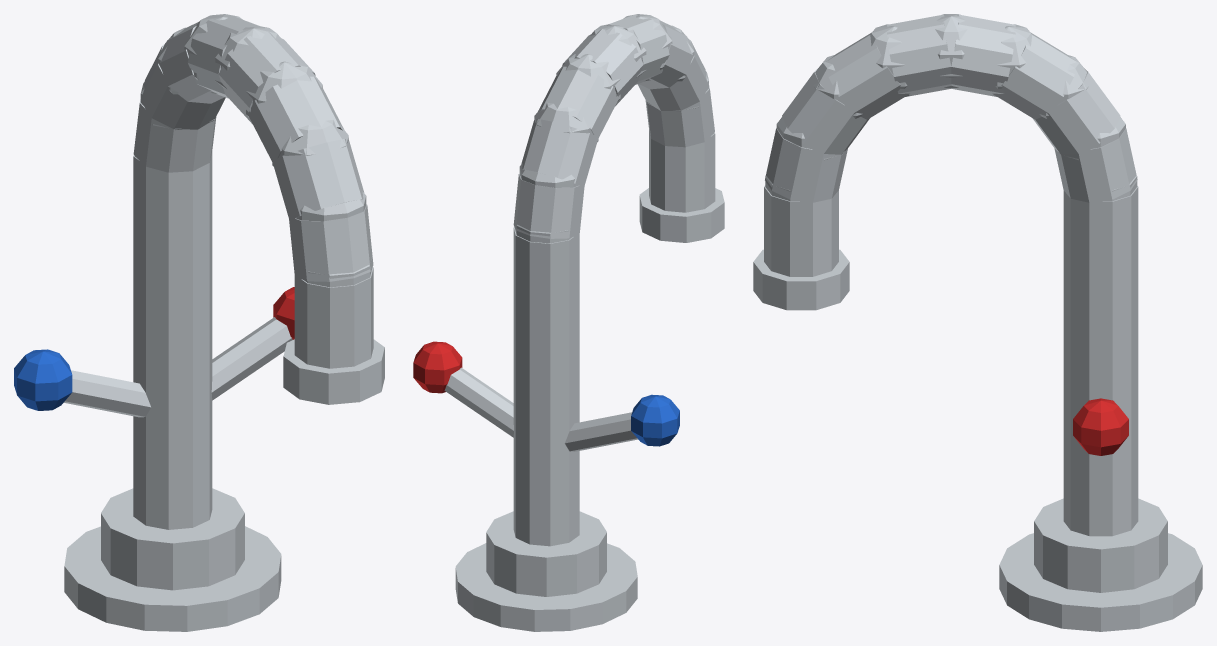
The model's file is sink_tap.glb.
The picture shows the model from 3 angles, left to right: view 1: azimuth 30°, elevation 25°; view 2: azimuth 150°, elevation 25°; view 3: azimuth 270°, elevation 25°; orthographic projection. The views are drawn at different scales.
Visible parts, largest first — view 1: SinkTap; view 2: SinkTap; view 3: SinkTap.
Part boxes in pixels (<box>): SinkTap: <box>14,14,384,631</box>; SinkTap: <box>413,14,724,631</box>; SinkTap: <box>753,14,1202,631</box>.
Size of the model in its own units: 6.25 by 11.81 by 8.4.
